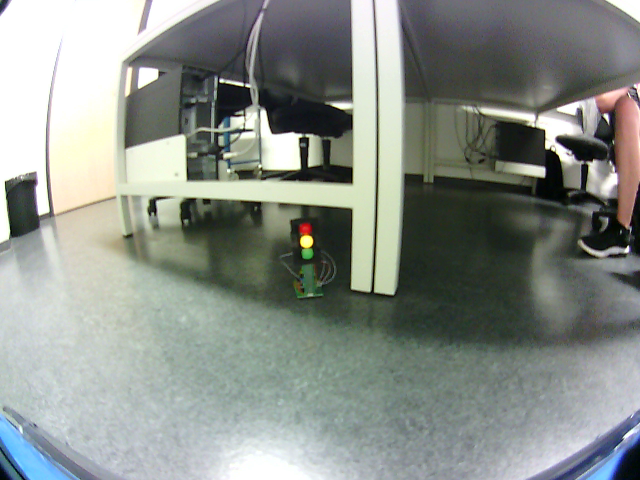yellow trafficlight: (293, 222, 316, 265)
